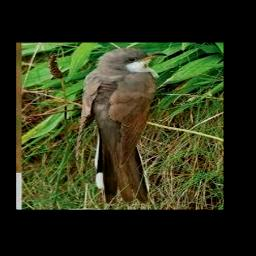Cuckoo: (80, 48, 167, 201)
